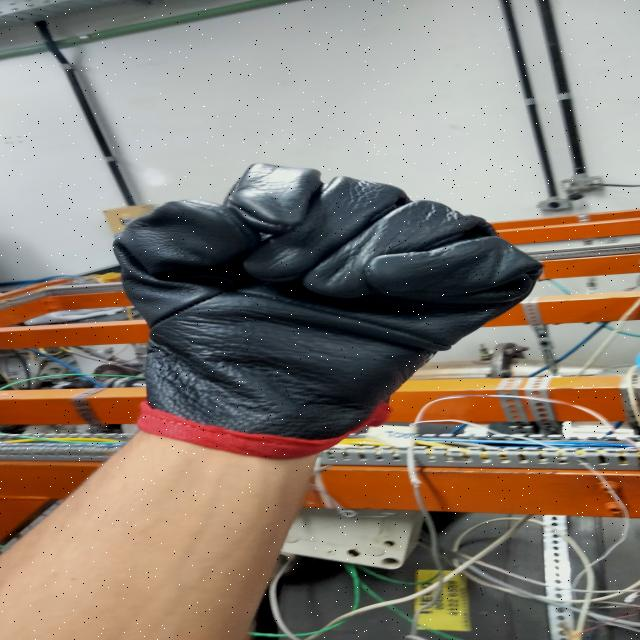Gloves: (104, 157, 527, 455)
